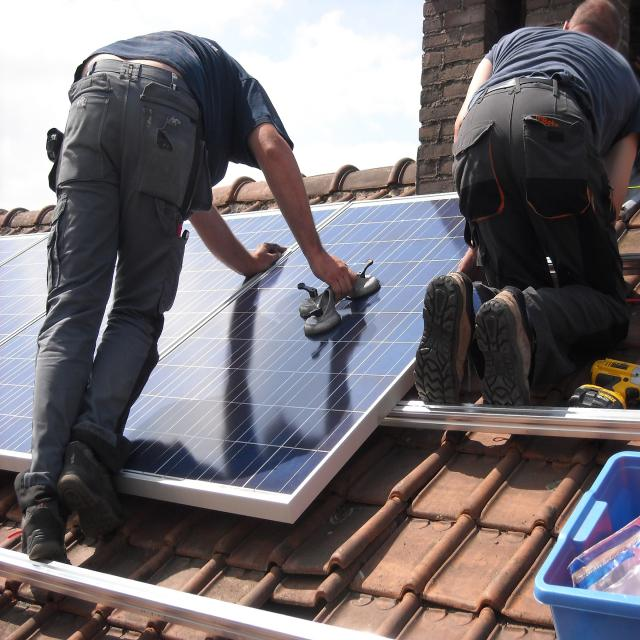clean-solar-panel: (118, 193, 464, 522), (0, 233, 49, 470)
